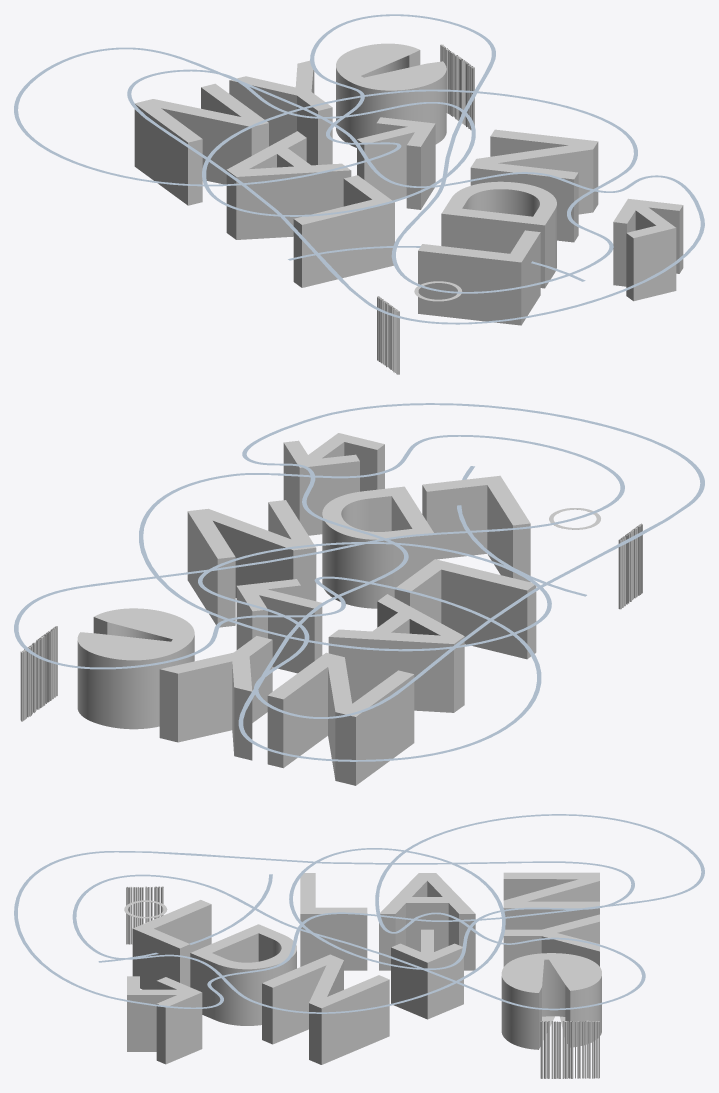
File: CityScape_2.fbx
The picture shows the model from 3 angles, top to bottom: view 1: azimuth 30°, elevation 25°; view 2: azimuth 150°, elevation 25°; view 3: azimuth 270°, elevation 25°; orthographic projection. The views are drawn at different scales.
Parts seen in each view (by area): view 1: Cap_1, Extrude_24, Extrude_31, Extrude_28, Extrude_29, Extrude_33, Extrude_26, Extrude_30, Extrude_27, Extrude_32, Extrude_25, Cap_1_27 (+10 smaller); view 2: Cap_1, Extrude_24, Extrude_25, Extrude_33, Extrude_28, Extrude_26, Extrude_29, Extrude_31, Extrude_32, Extrude_30, Extrude_27, Cap_1_27 (+11 smaller); view 3: Cap_1, Extrude_33, Extrude_26, Extrude_30, Extrude_32, Extrude_31, Extrude_27, Extrude_29, Extrude_24, Extrude_28, Cap_1_27, Extrude_25 (+11 smaller).
Part boxes in pixels (<box>): Cap_1: <box>14,14,704,324</box>; Extrude_24: <box>134,87,268,205</box>; Extrude_31: <box>418,233,540,325</box>; Extrude_28: <box>293,179,394,287</box>; Extrude_29: <box>226,138,351,239</box>; Extrude_33: <box>470,136,598,242</box>; Extrude_26: <box>336,50,446,147</box>; Extrude_30: <box>613,205,683,301</box>; Extrude_27: <box>357,123,435,209</box>; Extrude_32: <box>441,205,556,288</box>; Extrude_25: <box>229,70,332,165</box>; Cap_1_27: <box>336,43,446,90</box>; Cap_1: <box>14,403,704,761</box>; Extrude_24: <box>267,667,414,785</box>; Extrude_25: <box>159,640,272,760</box>; Extrude_33: <box>187,502,316,627</box>; Extrude_28: <box>394,569,536,659</box>; Extrude_26: <box>77,617,194,729</box>; Extrude_29: <box>328,601,464,712</box>; Extrude_31: <box>422,485,530,582</box>; Extrude_32: <box>322,516,434,608</box>; Extrude_30: <box>283,442,384,535</box>; Extrude_27: <box>236,585,322,673</box>; Cap_1_27: <box>77,608,194,660</box>; Cap_1: <box>14,814,704,1013</box>; Extrude_33: <box>262,961,389,1064</box>; Extrude_26: <box>501,959,601,1049</box>; Extrude_30: <box>127,981,202,1064</box>; Extrude_32: <box>190,950,296,1025</box>; Extrude_31: <box>132,904,211,989</box>; Extrude_27: <box>391,947,463,1019</box>; Extrude_29: <box>379,903,475,970</box>; Extrude_24: <box>503,879,599,929</box>; Extrude_28: <box>300,914,367,970</box>; Cap_1_27: <box>501,953,601,992</box>; Extrude_25: <box>503,921,599,966</box>.
Bounding box in the file's own units: 151 × 26.86 × 220.
